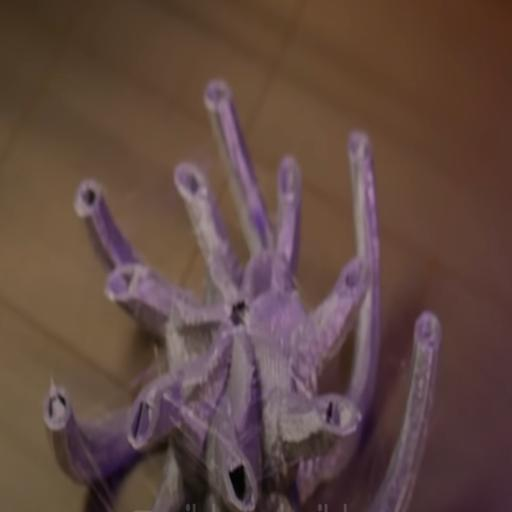stringing: (161, 384, 231, 486), (58, 416, 126, 507)
